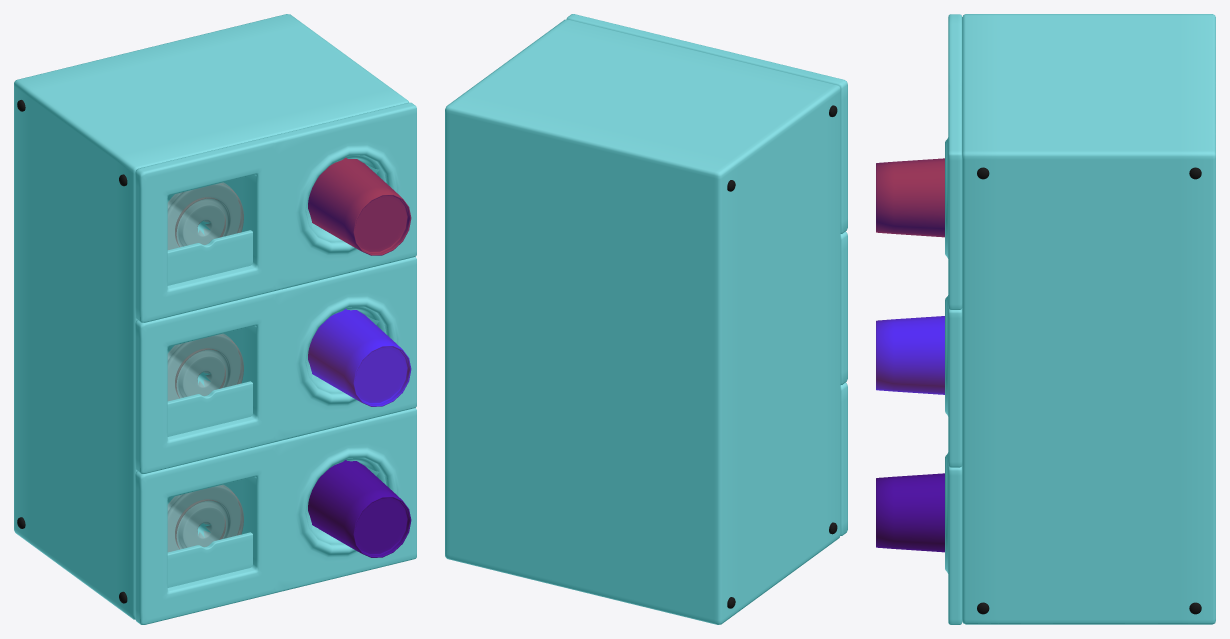
The model's file is Cup Dispenser.fbx.
3 views of the same model, side by side, from view 1: azimuth 30°, elevation 25°; view 2: azimuth 150°, elevation 25°; view 3: azimuth 270°, elevation 25° (orthographic). The views are drawn at different scales.
Visible parts, largest first — view 1: body, insert, insert_2, insert_3, cup_1, cup_1_2, cup_1_3, lid_1_3, lid_1, lid_1_2, edge, edge_3 (+4 smaller); view 2: body, insert, insert_2, insert_3; view 3: body, cup_1, cup_1_2, cup_1_3, insert, insert_2, insert_3.
Part boxes in pixels (x1,y1,x2,y2): body: [14, 14, 408, 619]; insert: [135, 102, 416, 322]; insert_2: [135, 257, 416, 473]; insert_3: [135, 408, 416, 624]; cup_1: [308, 157, 411, 255]; cup_1_2: [308, 308, 411, 406]; cup_1_3: [308, 460, 411, 557]; lid_1_3: [167, 484, 243, 552]; lid_1: [167, 182, 243, 249]; lid_1_2: [167, 333, 243, 401]; edge: [167, 230, 252, 285]; edge_3: [167, 532, 252, 587]; body: [445, 19, 840, 624]; insert: [566, 14, 847, 233]; insert_2: [840, 231, 847, 384]; insert_3: [840, 382, 847, 535]; body: [962, 14, 1215, 624]; cup_1: [876, 158, 944, 237]; cup_1_2: [876, 316, 944, 394]; cup_1_3: [876, 473, 944, 552]; insert: [945, 14, 962, 309]; insert_2: [945, 295, 962, 467]; insert_3: [945, 452, 962, 624].
Bounding box in the file's own units: 3.21 × 4.88 × 3.18.
